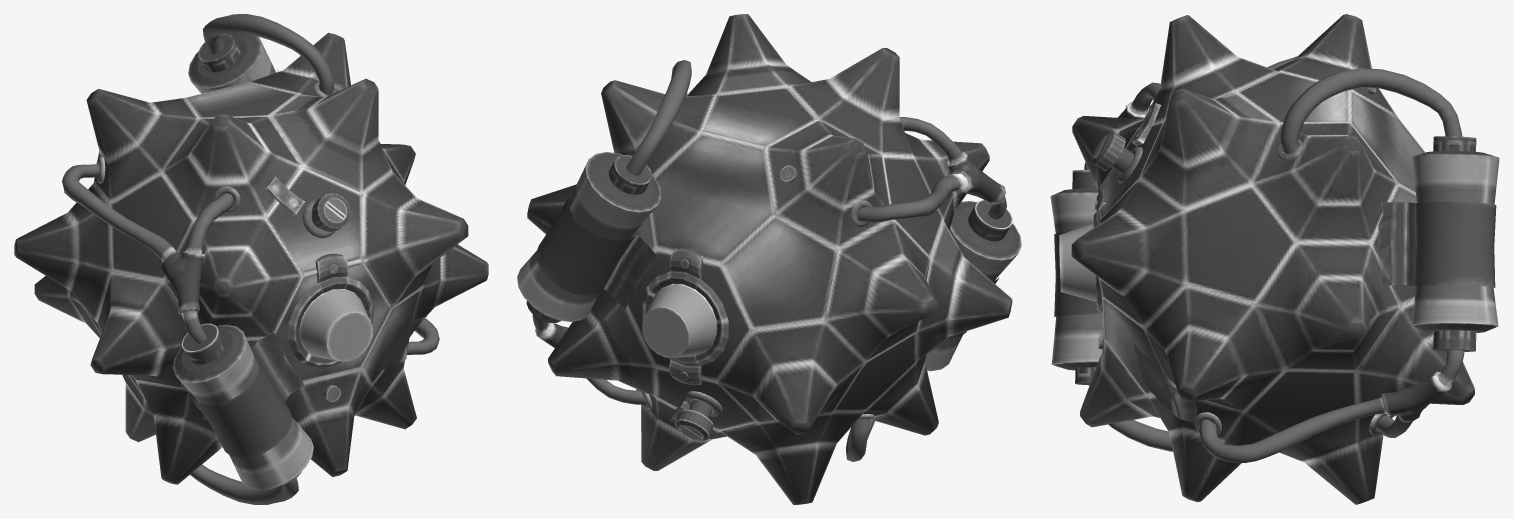
The picture shows the model from 3 angles, left to right: view 1: azimuth 30°, elevation 25°; view 2: azimuth 150°, elevation 25°; view 3: azimuth 270°, elevation 25°; orthographic projection. The views are drawn at different scales.
Parts seen in each view (by area): view 1: body0_model0_lod0_mesh0; view 2: body0_model0_lod0_mesh0; view 3: body0_model0_lod0_mesh0.
Boxes of the visible parts, x1,y1,x2,y2 form: body0_model0_lod0_mesh0: (14,14,488,504); body0_model0_lod0_mesh0: (517,14,1021,504); body0_model0_lod0_mesh0: (1050,14,1499,504).
Size of the model in its own units: 18.94 by 18.33 by 17.28.
Materials: 1 (1 with a texture image).
